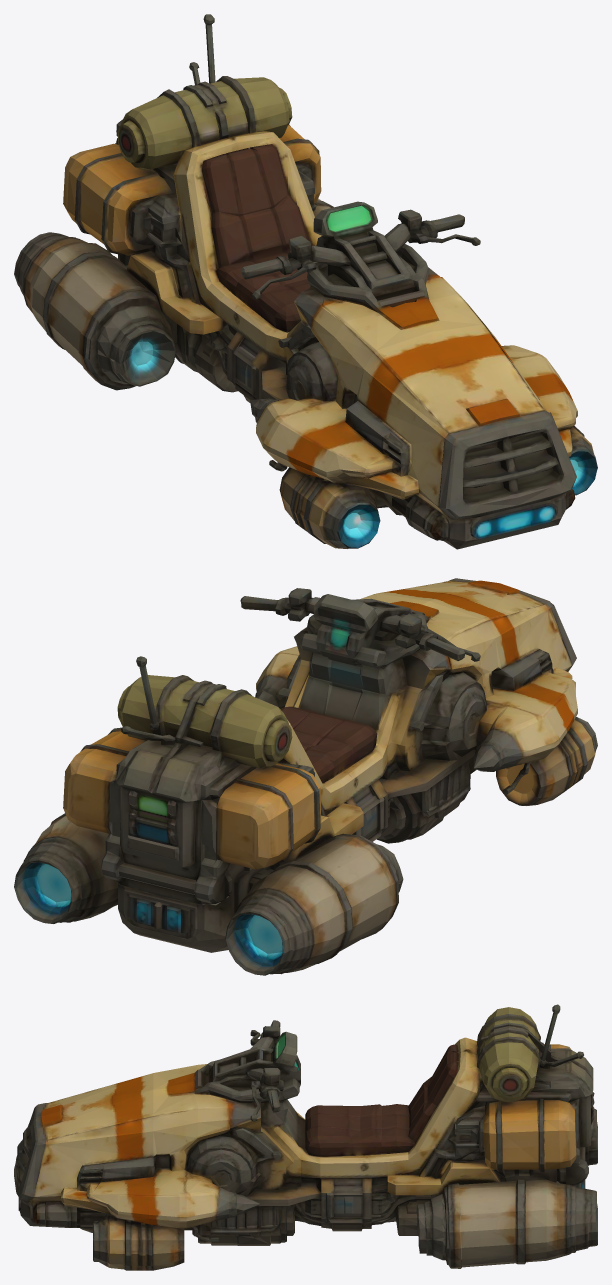
Rendered from hoverbike.glb.
The picture shows the model from 3 angles, top to bottom: view 1: azimuth 30°, elevation 25°; view 2: azimuth 150°, elevation 25°; view 3: azimuth 270°, elevation 25°; orthographic projection. The views are drawn at different scales.
Parts seen in each view (by area): view 1: tripo_node_6ca63c6b-8049-4b15-8886-d242e7c479f6; view 2: tripo_node_6ca63c6b-8049-4b15-8886-d242e7c479f6; view 3: tripo_node_6ca63c6b-8049-4b15-8886-d242e7c479f6.
Boxes of the visible parts, <box> form: tripo_node_6ca63c6b-8049-4b15-8886-d242e7c479f6: <box>14,14,597,549</box>; tripo_node_6ca63c6b-8049-4b15-8886-d242e7c479f6: <box>14,578,597,975</box>; tripo_node_6ca63c6b-8049-4b15-8886-d242e7c479f6: <box>14,1004,597,1270</box>.
Size of the model in its own units: 1.23 by 1.11 by 2.5.
1 material, 1 textured.
